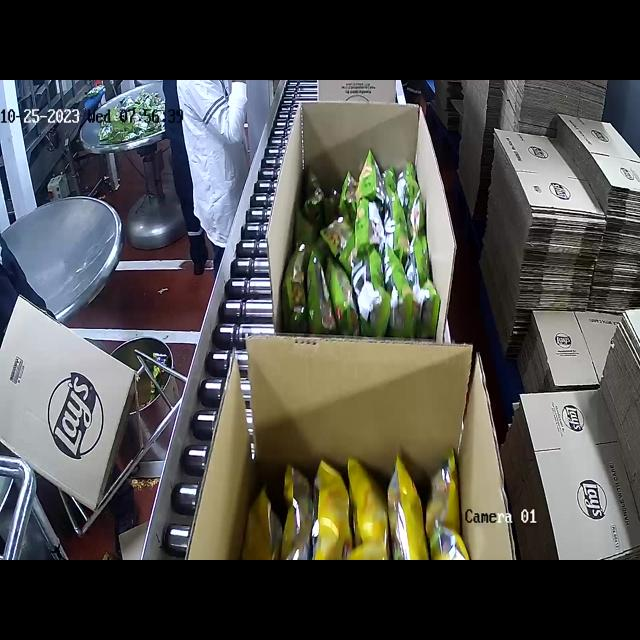salted: (254, 425, 483, 560)
yogurt: (300, 152, 423, 324)
